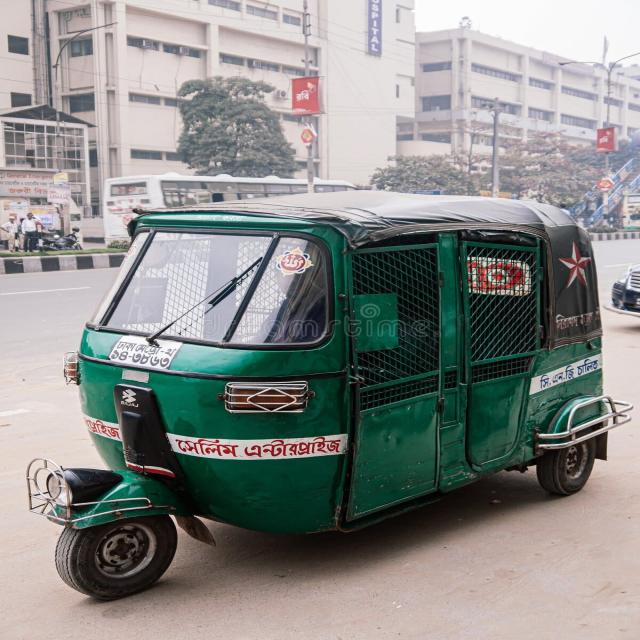CNG: (12, 136, 623, 627)
